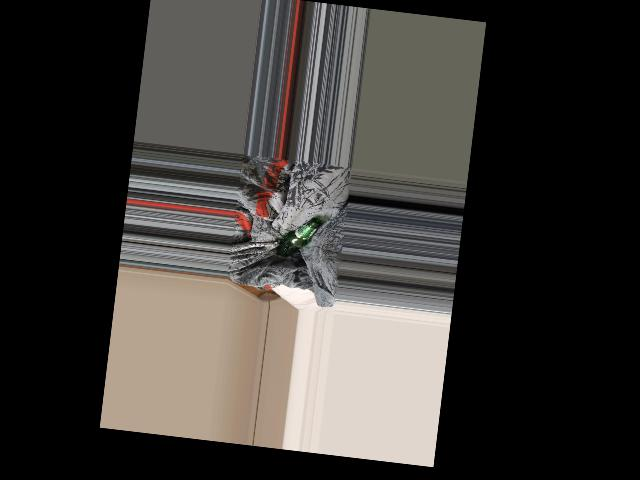beer: (276, 212, 321, 259)
